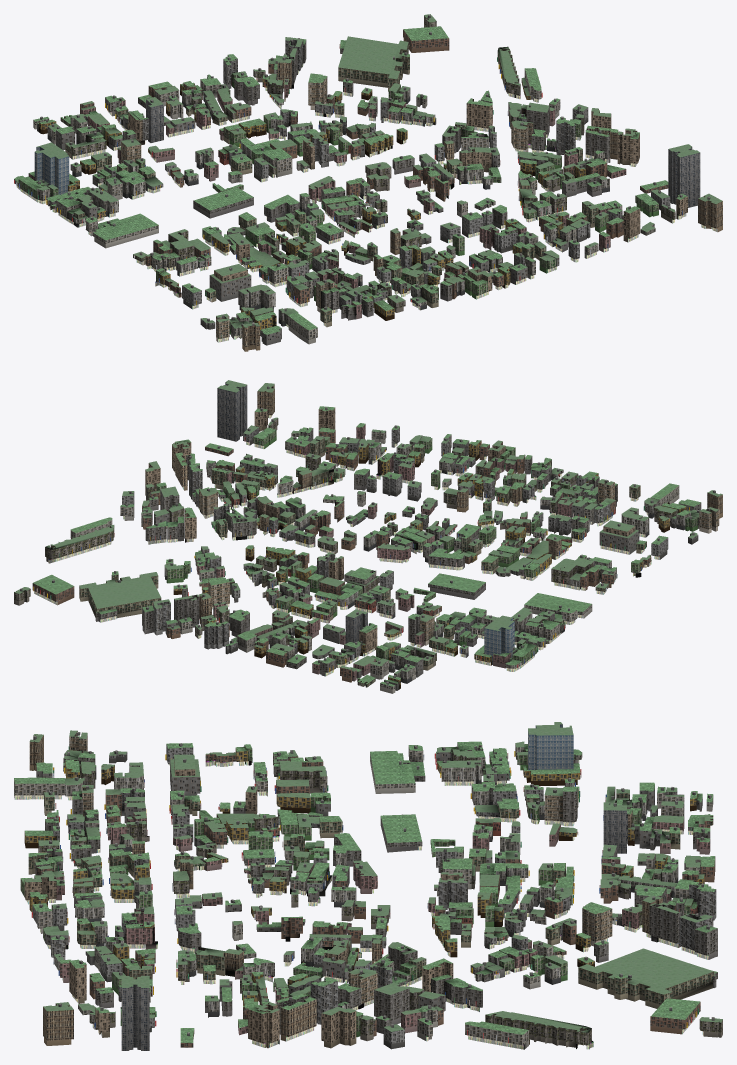
3 views of the same model, one above another, from view 1: azimuth 30°, elevation 25°; view 2: azimuth 150°, elevation 25°; view 3: azimuth 270°, elevation 25° (orthographic). The views are drawn at different scales.
Visible parts, largest first — view 1: buildings_roof_ai_1, buildings_roof_ai_0, buildings_facade_ai_concrete, buildings_facade_ai_cream, buildings_facade_ai_white_tile_apts, buildings_facade_ai_blue_green_tile, buildings_facade_ai_brown_brick_tile, buildings_facade_ai_grey, buildings_facade_ai_green_tile_apts, buildings_facade_ai_yellow_tile_apts, buildings_facade_ai_old_concrete_balcony, buildings_facade_ai_pink (+10 smaller); view 2: buildings_roof_ai_1, buildings_roof_ai_0, buildings_facade_ai_concrete, buildings_facade_ai_blue_green_tile, buildings_facade_ai_cream, buildings_facade_ai_brown_brick_tile, buildings_facade_ai_white_tile_apts, buildings_storefront, buildings_facade_ai_old_concrete_balcony, buildings_facade_ai_grey, buildings_facade_ai_pink, buildings_facade_ai_green_tile_apts (+10 smaller); view 3: buildings_roof_ai_1, buildings_roof_ai_0, buildings_facade_ai_concrete, buildings_facade_ai_blue_green_tile, buildings_facade_ai_white_tile_apts, buildings_facade_ai_cream, buildings_facade_ai_old_concrete_balcony, buildings_facade_ai_brown_brick_tile, buildings_facade_ai_yellow_tile_apts, buildings_facade_ai_pink, buildings_facade_ai_grey, buildings_facade_ai_hotel_tiles (+10 smaller).
Boxes of the visible parts, <box> form: buildings_roof_ai_1: <box>35,14,722,328</box>; buildings_roof_ai_0: <box>14,26,687,334</box>; buildings_facade_ai_concrete: <box>67,40,623,320</box>; buildings_facade_ai_cream: <box>14,69,655,344</box>; buildings_facade_ai_white_tile_apts: <box>36,88,609,326</box>; buildings_facade_ai_blue_green_tile: <box>50,43,598,327</box>; buildings_facade_ai_brown_brick_tile: <box>80,29,668,304</box>; buildings_facade_ai_grey: <box>38,75,670,329</box>; buildings_facade_ai_green_tile_apts: <box>18,73,658,334</box>; buildings_facade_ai_yellow_tile_apts: <box>39,76,585,329</box>; buildings_facade_ai_old_concrete_balcony: <box>70,15,675,321</box>; buildings_facade_ai_pink: <box>28,80,626,319</box>; buildings_roof_ai_1: <box>14,380,722,673</box>; buildings_roof_ai_0: <box>33,406,700,686</box>; buildings_facade_ai_concrete: <box>95,428,617,676</box>; buildings_facade_ai_blue_green_tile: <box>79,438,646,687</box>; buildings_facade_ai_cream: <box>70,431,699,693</box>; buildings_facade_ai_brown_brick_tile: <box>32,428,651,682</box>; buildings_facade_ai_white_tile_apts: <box>142,443,690,683</box>; buildings_storefront: <box>34,415,659,675</box>; buildings_facade_ai_old_concrete_balcony: <box>14,418,677,666</box>; buildings_facade_ai_grey: <box>122,427,698,672</box>; buildings_facade_ai_pink: <box>142,424,608,681</box>; buildings_facade_ai_green_tile_apts: <box>156,430,697,668</box>; buildings_roof_ai_1: <box>24,722,722,1039</box>; buildings_roof_ai_0: <box>14,741,717,1042</box>; buildings_facade_ai_concrete: <box>35,753,717,1034</box>; buildings_facade_ai_blue_green_tile: <box>28,747,714,1008</box>; buildings_facade_ai_white_tile_apts: <box>41,743,678,1018</box>; buildings_facade_ai_cream: <box>14,743,713,1049</box>; buildings_facade_ai_old_concrete_balcony: <box>38,750,722,1048</box>; buildings_facade_ai_brown_brick_tile: <box>29,752,715,1047</box>; buildings_facade_ai_yellow_tile_apts: <box>24,748,704,1044</box>; buildings_facade_ai_pink: <box>47,759,710,1035</box>; buildings_facade_ai_grey: <box>52,743,678,1049</box>; buildings_facade_ai_hotel_tiles: <box>24,757,632,1048</box>.
Size of the model in its own units: 723 by 72.78 by 731.
24 materials, 23 textured.
